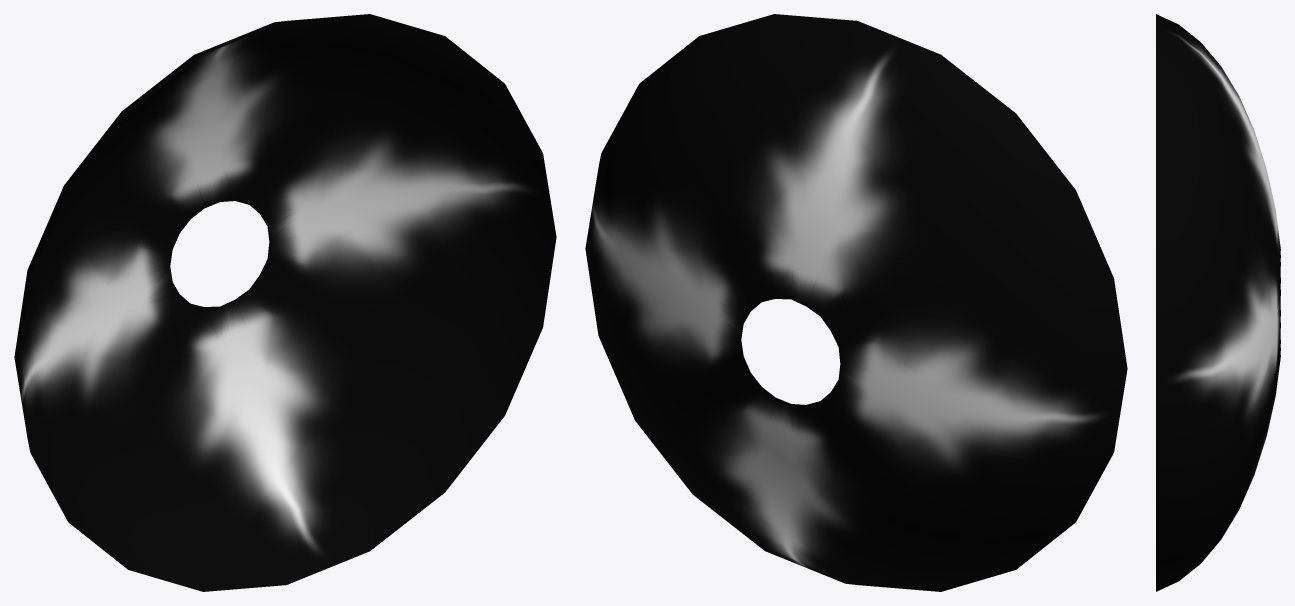
File: sm_MuzzleFXCone.fbx
3 views of the same model, side by side, from view 1: azimuth 30°, elevation 25°; view 2: azimuth 150°, elevation 25°; view 3: azimuth 270°, elevation 25° (orthographic). The views are drawn at different scales.
Parts seen in each view (by area): view 1: sm_MuzzleFXCone; view 2: sm_MuzzleFXCone; view 3: sm_MuzzleFXCone.
Boxes of the visible parts, bbox=[...] form: sm_MuzzleFXCone: bbox=[14, 14, 556, 591]; sm_MuzzleFXCone: bbox=[585, 14, 1127, 591]; sm_MuzzleFXCone: bbox=[1156, 14, 1280, 591].
Size of the model in its own units: 91.26 by 91.14 by 19.57.
Materials: 1 (1 with a texture image).
